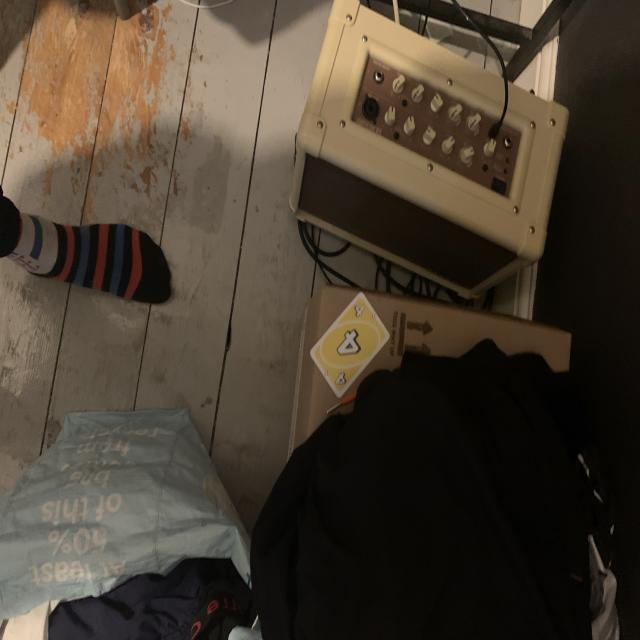lyellow-4: (349, 298, 369, 320)
